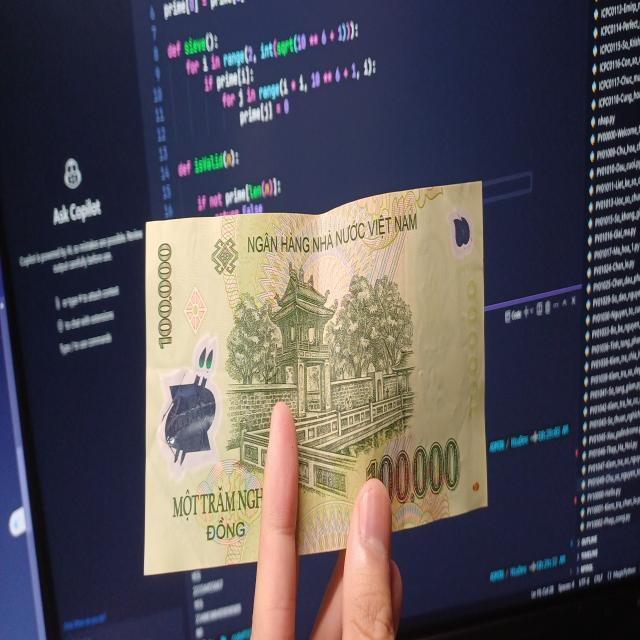100 000 VND: (140, 172, 490, 580)
